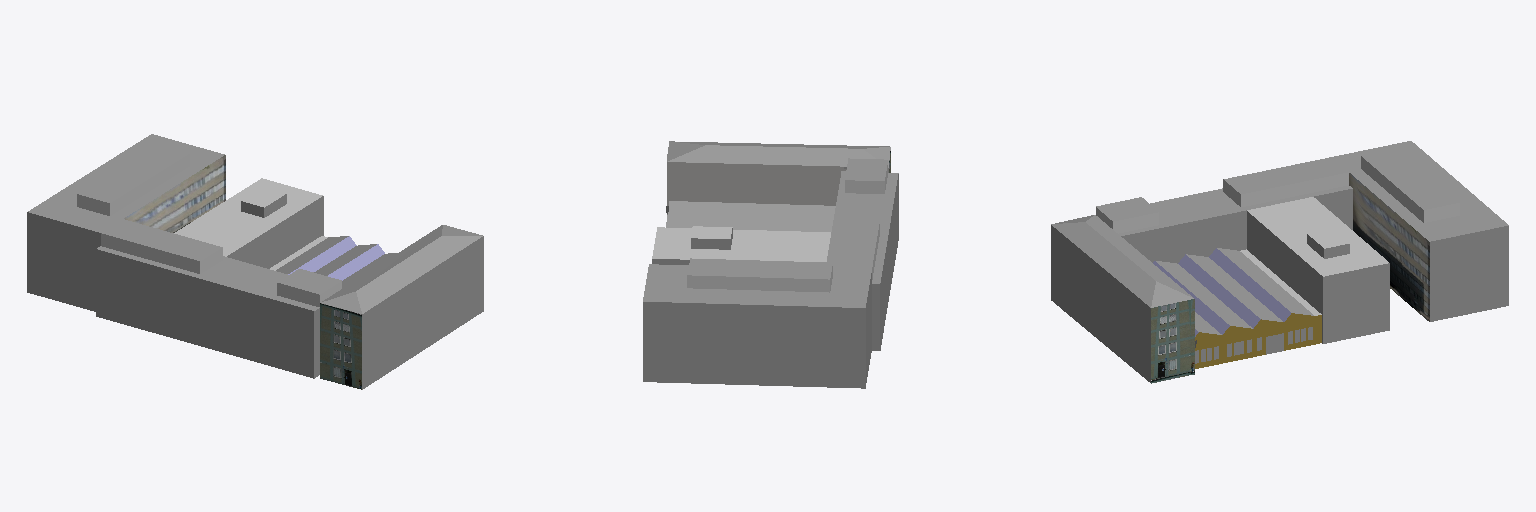
The picture shows the model from 3 angles: view 1: azimuth 30°, elevation 25°; view 2: azimuth 150°, elevation 25°; view 3: azimuth 270°, elevation 25°; orthographic projection.
Parts seen in each view (by area): view 1: SketchUp.001_ID39, SketchUp.036_ID375, SketchUp.034_ID359, SketchUp.015_ID175, SketchUp.002_ID52, SketchUp.044_ID455, SketchUp.031_ID325, SketchUp.028_ID291, SketchUp.023_ID252, SketchUp.017_ID201, SketchUp.010_ID131, SketchUp.027_ID285 (+7 smaller); view 2: SketchUp.015_ID175, SketchUp.034_ID359, SketchUp.013_ID163, SketchUp.044_ID455, SketchUp.002_ID52, SketchUp.017_ID201, SketchUp.010_ID131, SketchUp.051_ID508, SketchUp.025_ID271, SketchUp.011_ID144, SketchUp.001_ID39, SketchUp.020_ID228 (+2 smaller); view 3: SketchUp.036_ID375, SketchUp.034_ID359, SketchUp.016_ID188, SketchUp.031_ID325, SketchUp.002_ID52, SketchUp.044_ID455, SketchUp.019_ID215, SketchUp.029_ID304, SketchUp.041_ID428, SketchUp.023_ID252, SketchUp.021_ID236, SketchUp.017_ID201 (+13 smaller).
Boxes of the visible parts, box(x1,y1,x2,y2) form: SketchUp.001_ID39: box(96, 249, 313, 378); SketchUp.036_ID375: box(362, 236, 483, 389); SketchUp.034_ID359: box(28, 134, 224, 260); SketchUp.015_ID175: box(27, 212, 100, 311); SketchUp.002_ID52: box(321, 225, 482, 313); SketchUp.044_ID455: box(174, 178, 322, 256); SketchUp.031_ID325: box(124, 155, 225, 232); SketchUp.028_ID291: box(320, 303, 361, 389); SketchUp.023_ID252: box(227, 196, 323, 268); SketchUp.017_ID201: box(97, 246, 319, 310); SketchUp.010_ID131: box(78, 144, 189, 202); SketchUp.027_ID285: box(101, 233, 222, 273); SketchUp.015_ID175: box(643, 273, 871, 388); SketchUp.034_ID359: box(643, 219, 879, 307); SketchUp.013_ID163: box(667, 160, 889, 214); SketchUp.044_ID455: box(652, 227, 830, 261); SketchUp.002_ID52: box(667, 141, 890, 167); SketchUp.017_ID201: box(827, 171, 898, 283); SketchUp.010_ID131: box(688, 258, 832, 279); SketchUp.051_ID508: box(668, 201, 835, 219); SketchUp.025_ID271: box(666, 215, 832, 231); SketchUp.011_ID144: box(687, 266, 832, 292); SketchUp.001_ID39: box(880, 174, 898, 350); SketchUp.020_ID228: box(845, 158, 887, 180); SketchUp.036_ID375: box(1051, 225, 1150, 382); SketchUp.034_ID359: box(1224, 141, 1508, 241); SketchUp.016_ID188: box(1430, 226, 1508, 321); SketchUp.031_ID325: box(1349, 173, 1429, 321); SketchUp.002_ID52: box(1051, 215, 1193, 307); SketchUp.044_ID455: box(1247, 197, 1388, 276); SketchUp.019_ID215: box(1323, 263, 1389, 343); SketchUp.029_ID304: box(1121, 210, 1246, 263); SketchUp.041_ID428: box(1151, 299, 1194, 383); SketchUp.023_ID252: box(1247, 211, 1322, 343); SketchUp.021_ID236: box(1195, 313, 1321, 368); SketchUp.017_ID201: box(1119, 185, 1352, 235).
Bounding box in the file's own units: 65.84 × 18.76 × 80.07.
Materials: 25 (2 with a texture image).